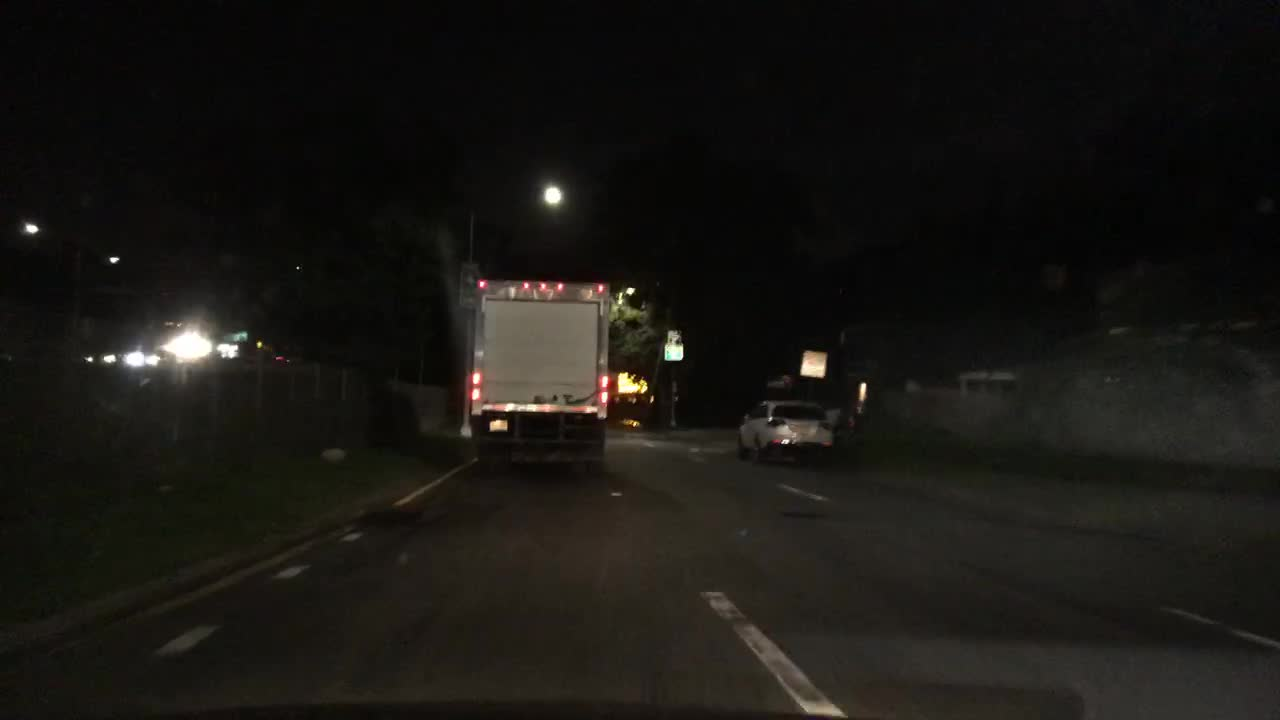car: (737, 398, 832, 461), (218, 338, 263, 362), (126, 344, 171, 368), (173, 338, 213, 362), (826, 408, 857, 434), (84, 345, 122, 360), (275, 351, 305, 368)
traffic sign: (457, 262, 478, 308), (664, 329, 686, 359), (802, 350, 824, 378), (225, 332, 245, 338)
truck: (469, 275, 607, 482)
